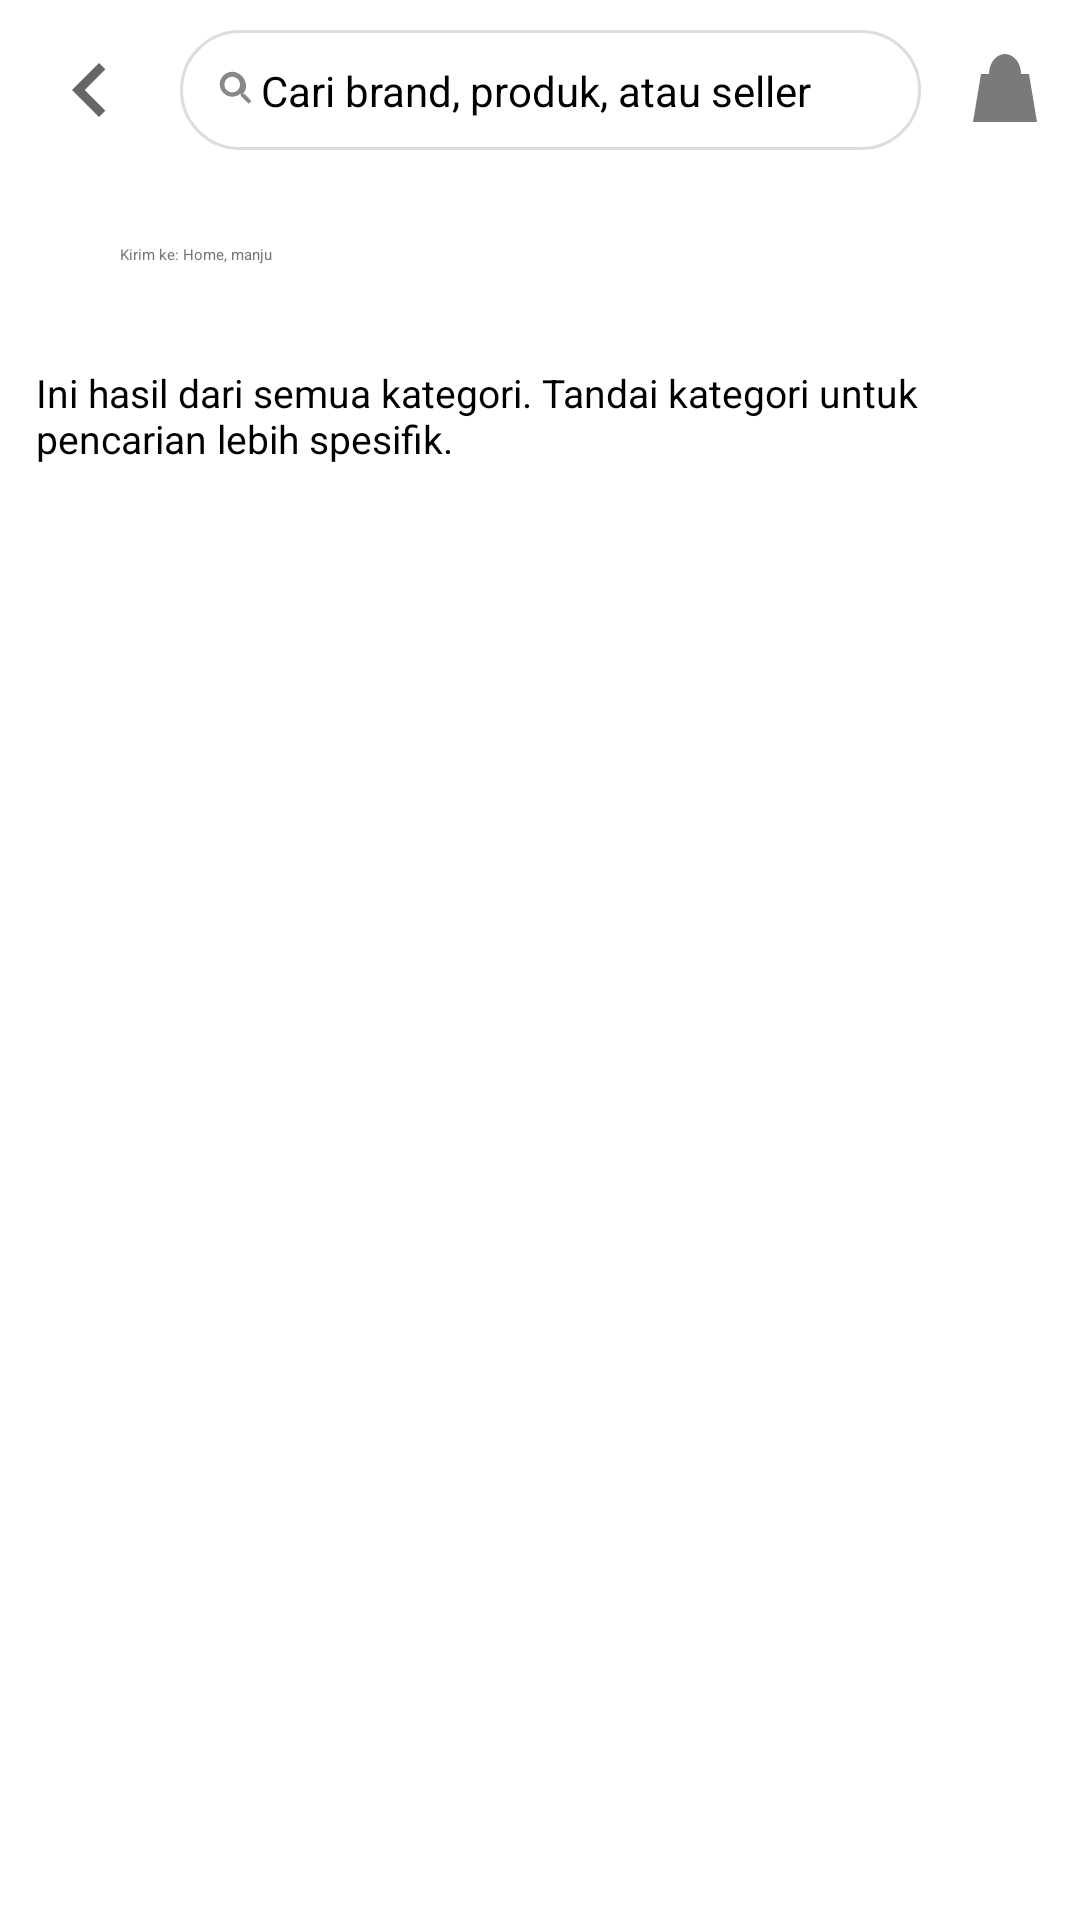

Point at icon controls on the screen. Image size 1080×1920, points as point (x, y).
back: point (88, 90)
cart: point (1005, 88)
search: point (235, 87)
